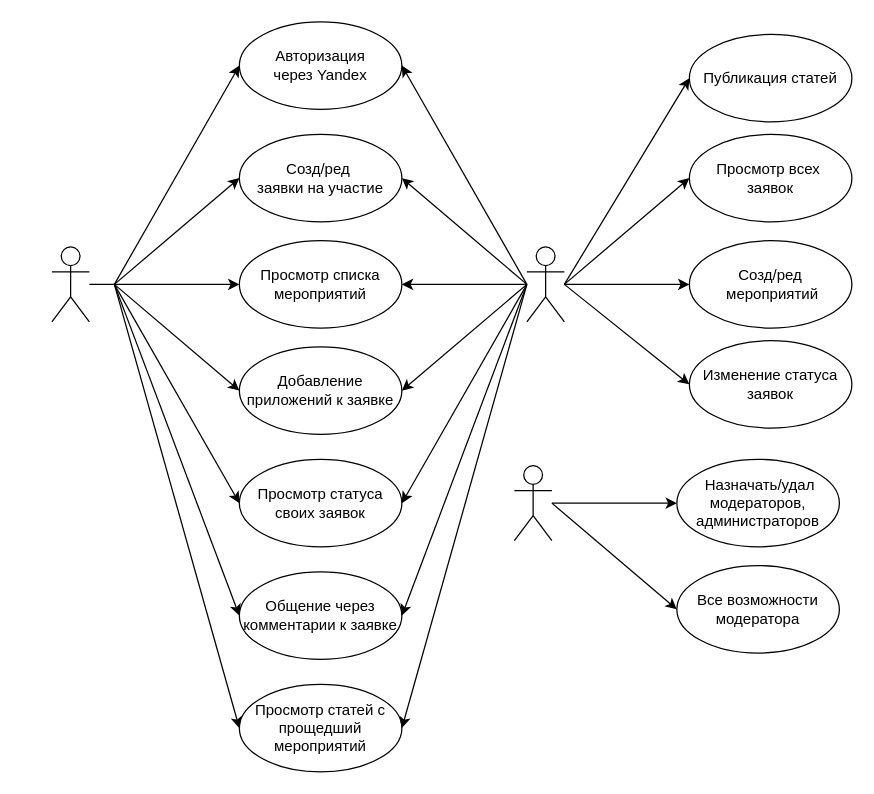
The diagram is 874 pixels wide and 794 high, and some of its shapes have lost their labels. The shapes that lost their labels are listed below. From the top down, each one's box as (x1, y1, x2, y2) in pixels, then its label:
(51, 246, 89, 322): Пользователь
(526, 246, 564, 322): Модератор
(513, 464, 552, 541): Администратор
